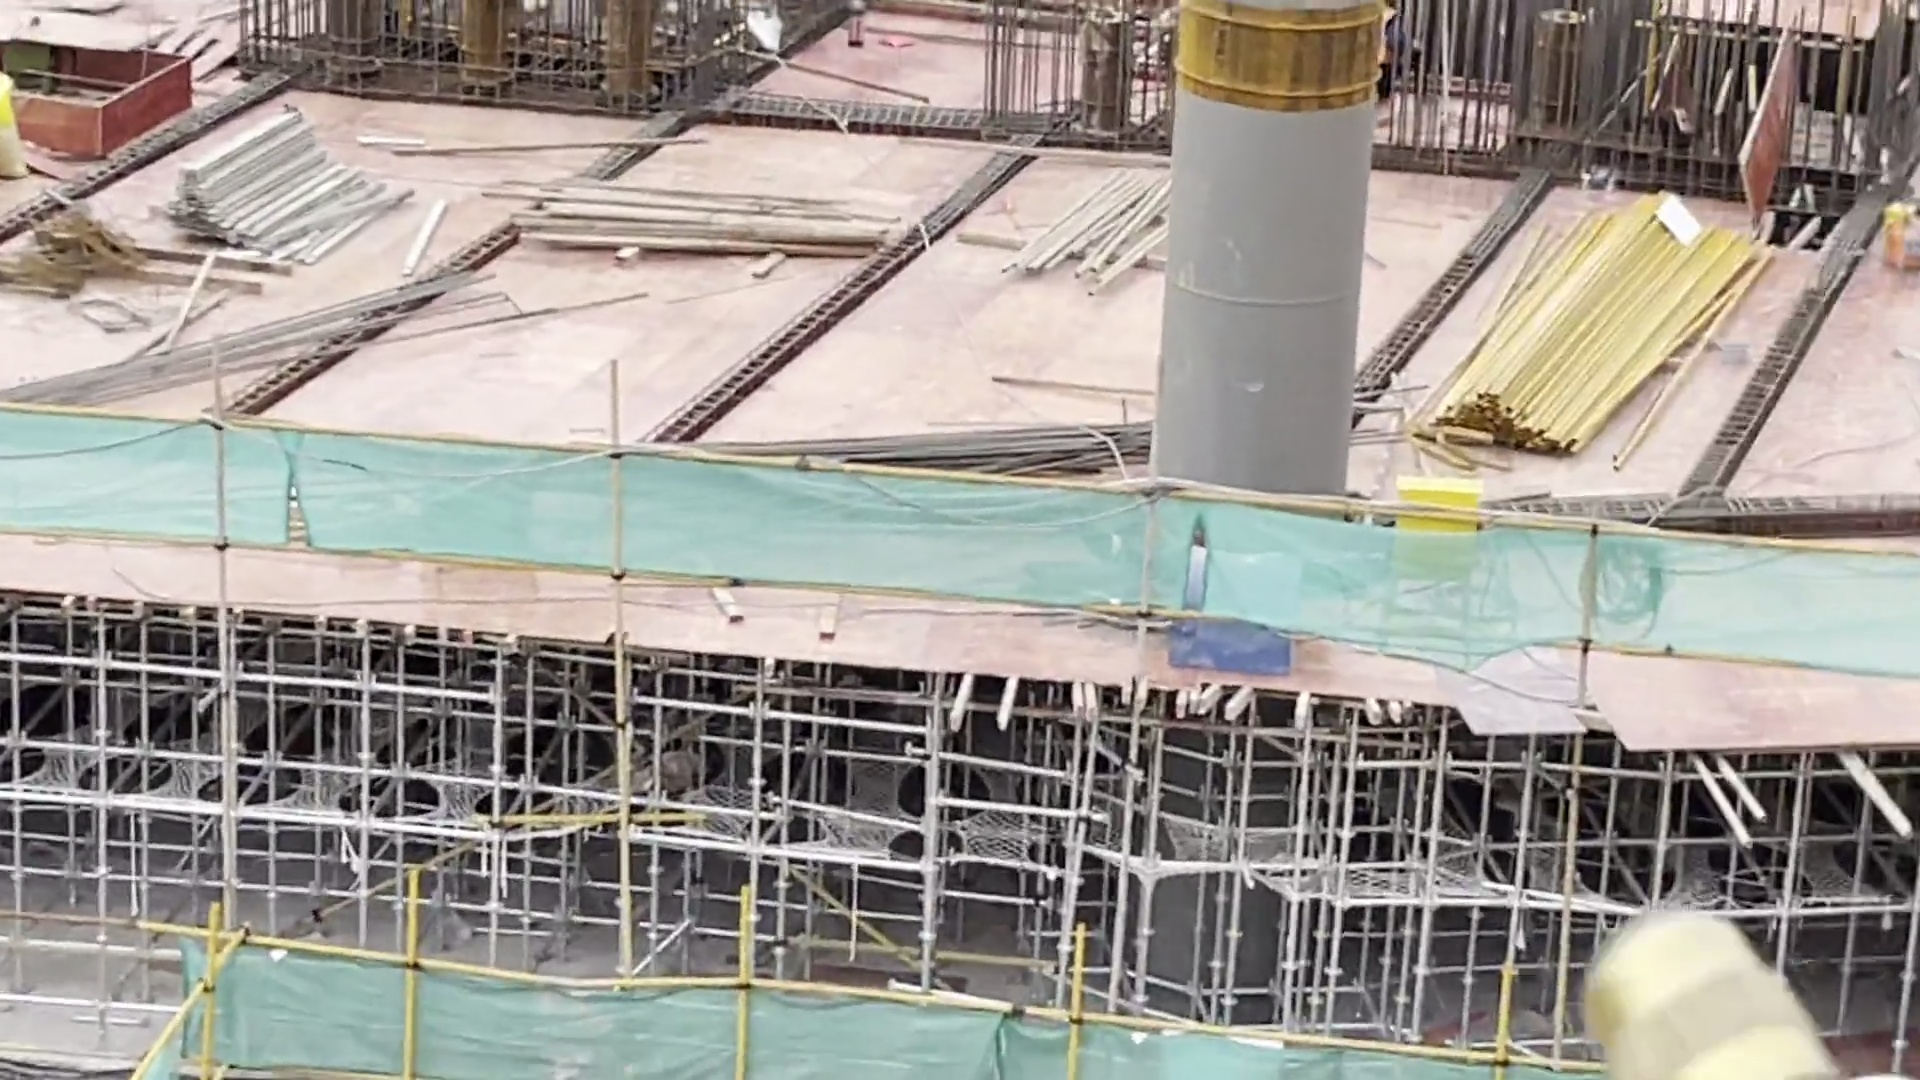wood: (484, 171, 905, 276)
